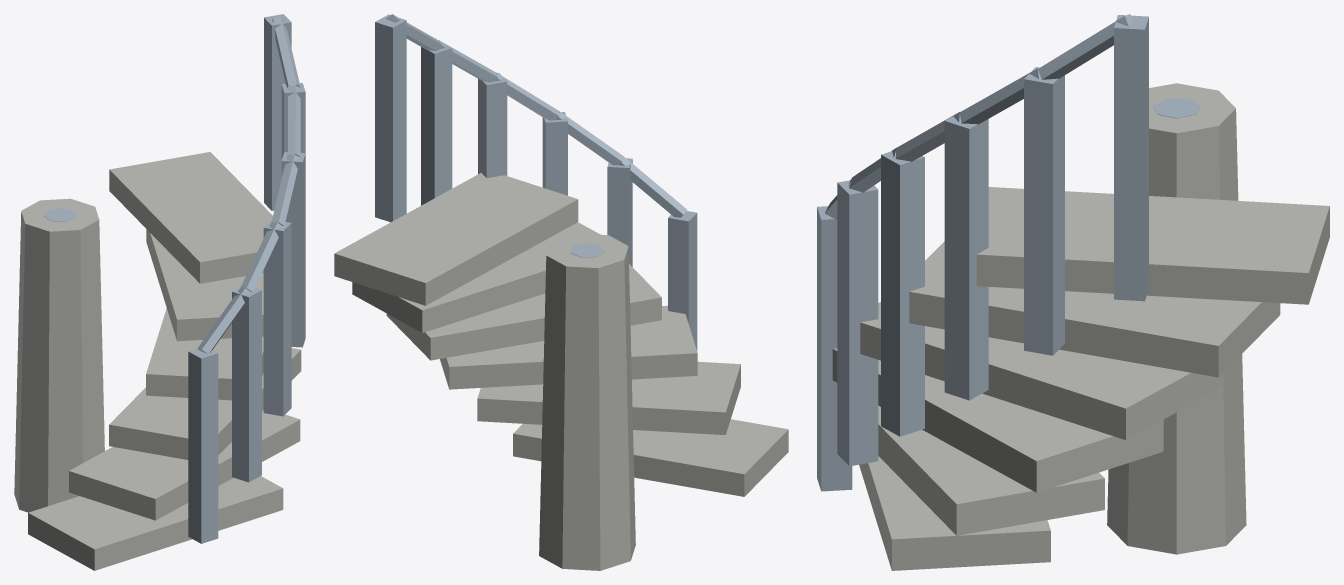
File: wipe-day-survival-island-lighthouse-spiral-stair-segme-18e8d21d__27505.glb
3 renders of one model, left to right at view 1: azimuth 30°, elevation 25°; view 2: azimuth 150°, elevation 25°; view 3: azimuth 270°, elevation 25°, orthographic. The views are drawn at different scales.
Parts seen in each view (by area): view 1: lighthouse-spiral-stair-segment; view 2: lighthouse-spiral-stair-segment; view 3: lighthouse-spiral-stair-segment.
Part boxes in pixels (box(x1,y1,x2,y2)): lighthouse-spiral-stair-segment: box(14, 14, 305, 570); lighthouse-spiral-stair-segment: box(334, 14, 788, 570); lighthouse-spiral-stair-segment: box(817, 14, 1329, 570).
Size of the model in its own units: 1.47 by 2.07 by 1.47.
